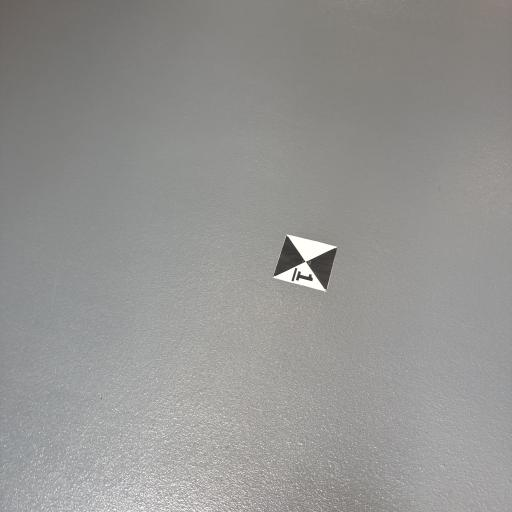target1: (273, 232, 342, 297)
